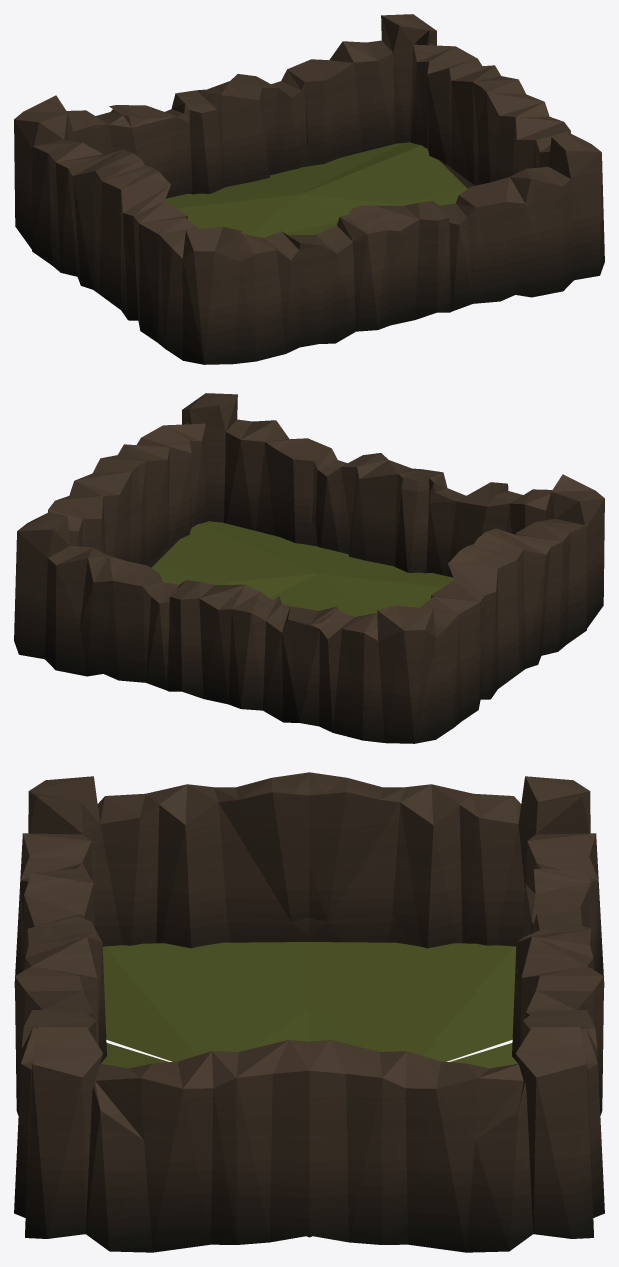
Rendered from EA_Grave_WoodForm_01a.fbx.
3 views of the same model, one above another, from view 1: azimuth 30°, elevation 25°; view 2: azimuth 150°, elevation 25°; view 3: azimuth 270°, elevation 25° (orthographic). The views are drawn at different scales.
Visible parts, largest first — view 1: EA_Grave_WoodForm_01a_LOD0; view 2: EA_Grave_WoodForm_01a_LOD0; view 3: EA_Grave_WoodForm_01a_LOD0.
Boxes of the visible parts, box(x1,y1,x2,y2) form: EA_Grave_WoodForm_01a_LOD0: box(14, 14, 604, 364); EA_Grave_WoodForm_01a_LOD0: box(14, 393, 604, 743); EA_Grave_WoodForm_01a_LOD0: box(14, 772, 604, 1252).
Size of what is drawn, in the model's own units: 3.64 by 1.15 by 2.99.
